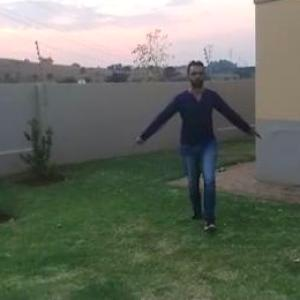land: (136, 62, 248, 206)
